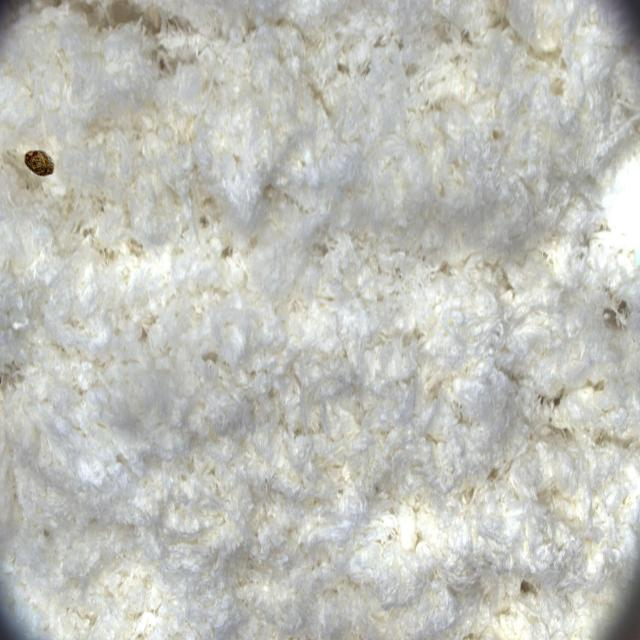dust: (15, 124, 72, 210)
